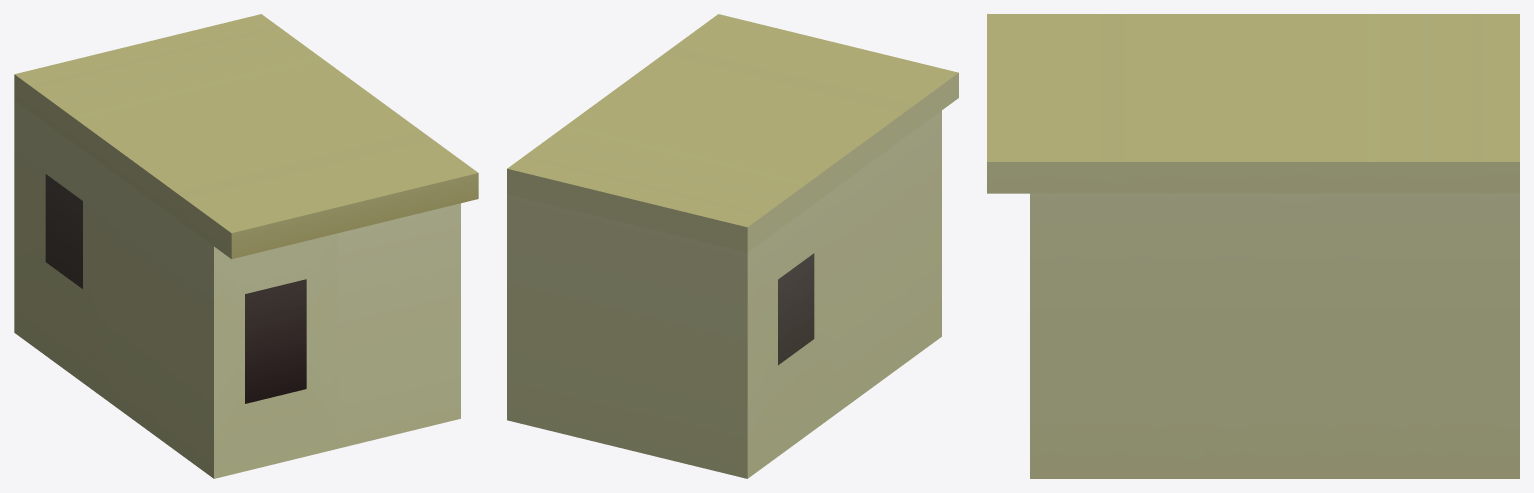
Rendered from SM_VistaHouse_03.fbx.
3 renders of one model, left to right at view 1: azimuth 30°, elevation 25°; view 2: azimuth 150°, elevation 25°; view 3: azimuth 270°, elevation 25°, orthographic. The views are drawn at different scales.
Parts seen in each view (by area): view 1: SM_VistaHouse_03; view 2: SM_VistaHouse_03; view 3: SM_VistaHouse_03.
Boxes of the visible parts, x1,y1,x2,y2 form: SM_VistaHouse_03: [14, 14, 478, 478]; SM_VistaHouse_03: [507, 14, 958, 478]; SM_VistaHouse_03: [987, 14, 1519, 478].
Bounding box in the file's own units: 2 × 2 × 3.04.
